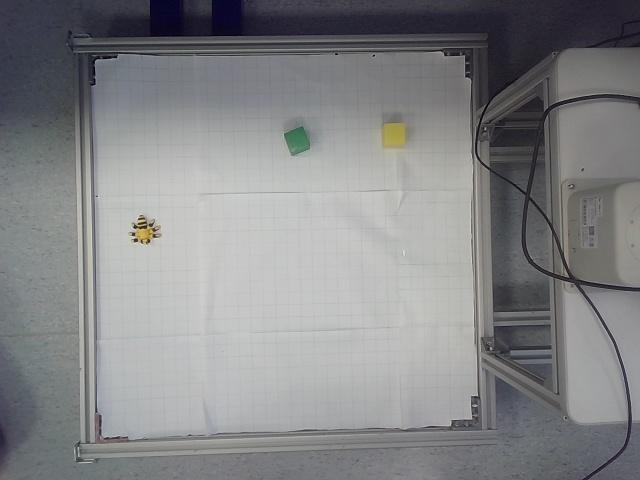frelon: (129, 215, 162, 244)
